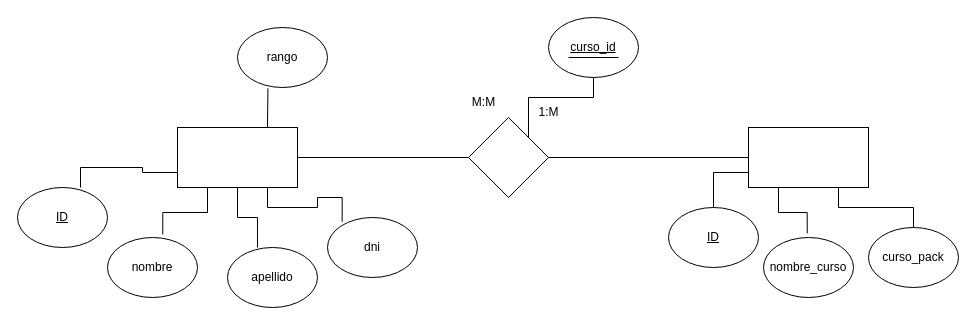
Image size: 976x325. Some labels were removed from this diagram. The box of each missing label's shape, as (x1, y1, x2, y2) in pixels:
clientes: (176, 126, 298, 188)
contener: (468, 116, 548, 198)
cursos: (748, 126, 868, 188)
